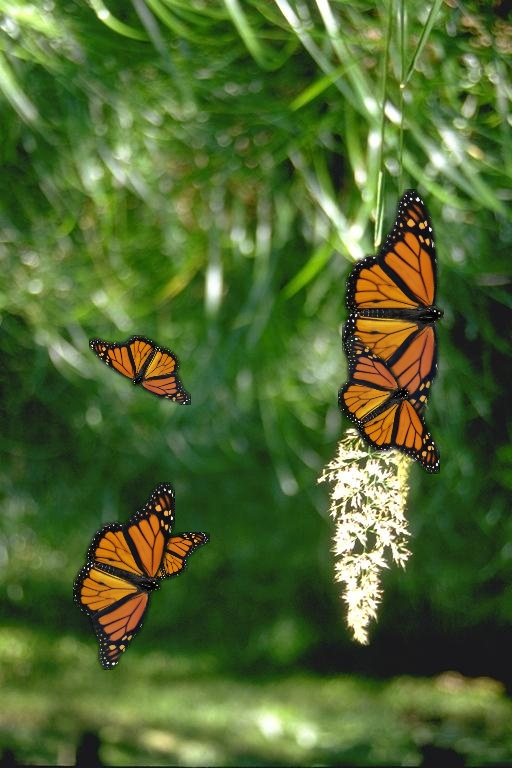danaus_plexippus: (342, 189, 444, 431), (73, 482, 175, 670), (338, 335, 440, 474), (89, 335, 191, 405), (108, 532, 210, 585)
